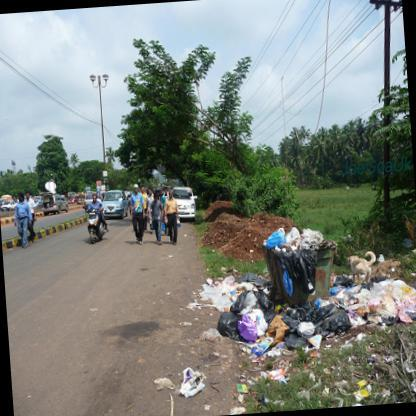Garbage: (207, 276, 278, 338), (336, 287, 415, 334), (275, 223, 318, 296), (218, 278, 268, 334), (277, 307, 321, 357)
